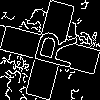R: (25, 25, 78, 72)
